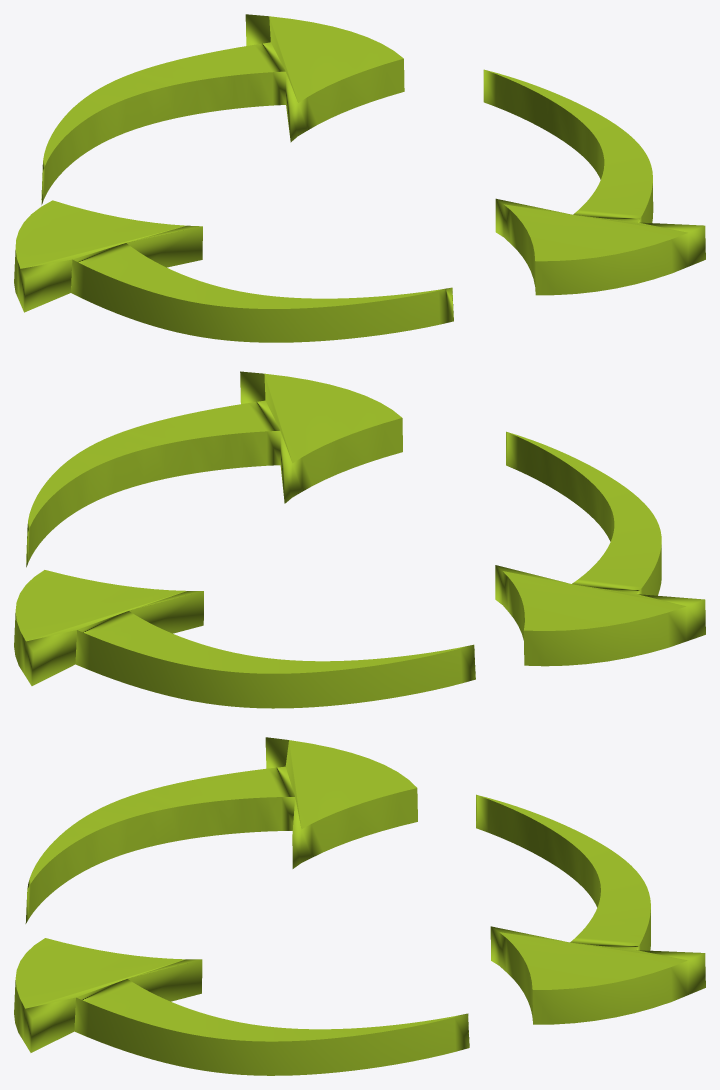
The model's file is 转动标记1.gltf.
The picture shows the model from 3 angles, top to bottom: view 1: azimuth 30°, elevation 25°; view 2: azimuth 150°, elevation 25°; view 3: azimuth 270°, elevation 25°; orthographic projection. The views are drawn at different scales.
Parts seen in each view (by area): view 1: 转箭头.001; view 2: 转箭头.001; view 3: 转箭头.001.
Boxes of the visible parts, <box> form: 转箭头.001: <box>14,14,705,342</box>; 转箭头.001: <box>14,371,705,708</box>; 转箭头.001: <box>14,737,705,1075</box>.
Size of the model in its own units: 189 by 11.9 by 183.
